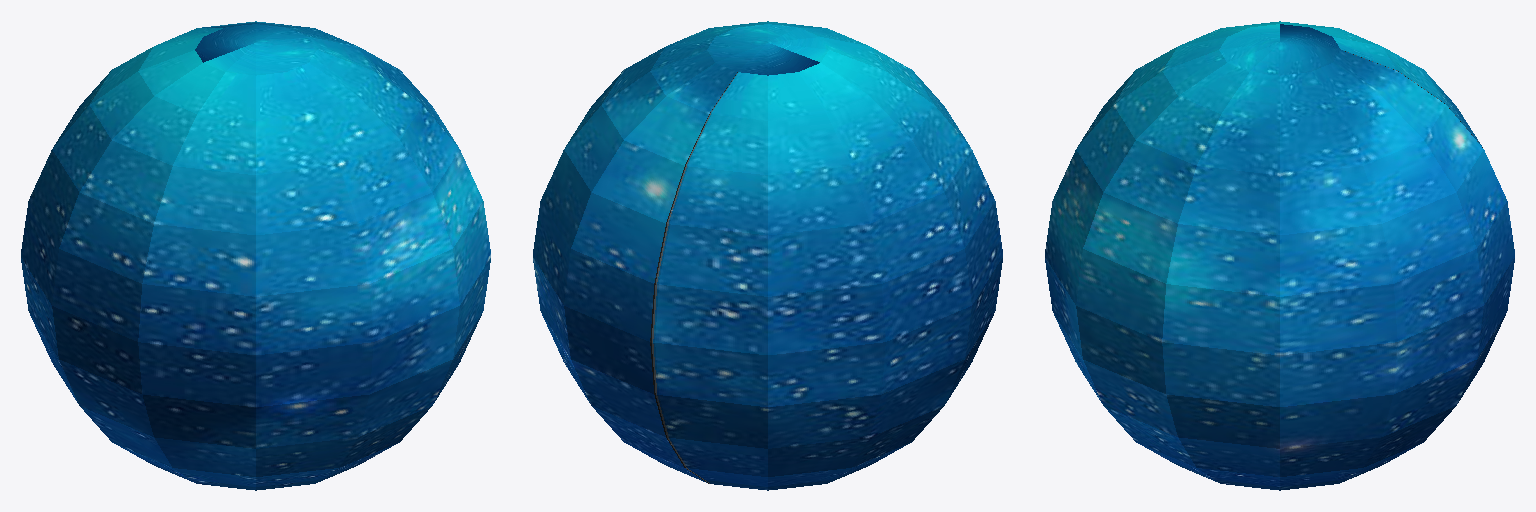
The picture shows the model from 3 angles: view 1: azimuth 30°, elevation 25°; view 2: azimuth 150°, elevation 25°; view 3: azimuth 270°, elevation 25°; orthographic projection.
Visible parts, largest first — view 1: planeta:pSphere1; view 2: planeta:pSphere1; view 3: planeta:pSphere1.
Boxes of the visible parts, box(x1,y1,x2,y2) form: planeta:pSphere1: box(21, 21, 490, 490); planeta:pSphere1: box(533, 21, 1002, 490); planeta:pSphere1: box(1045, 21, 1514, 490).
Bounding box in the file's own units: 2 × 2 × 2.
Materials: 1 (1 with a texture image).